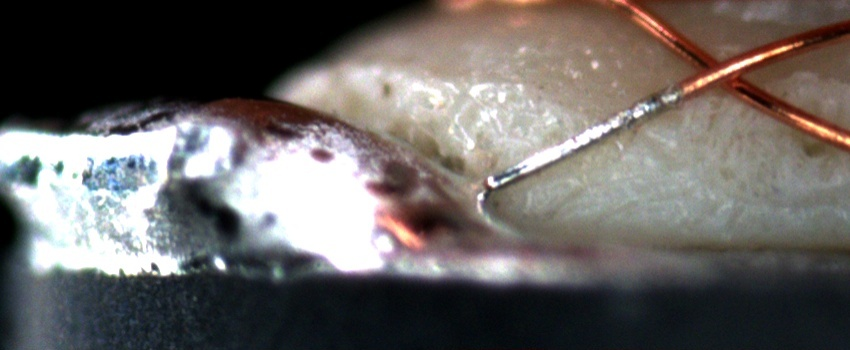CL: (678, 43, 767, 100)
DL: (669, 69, 850, 104)
TS: (483, 86, 682, 190)
